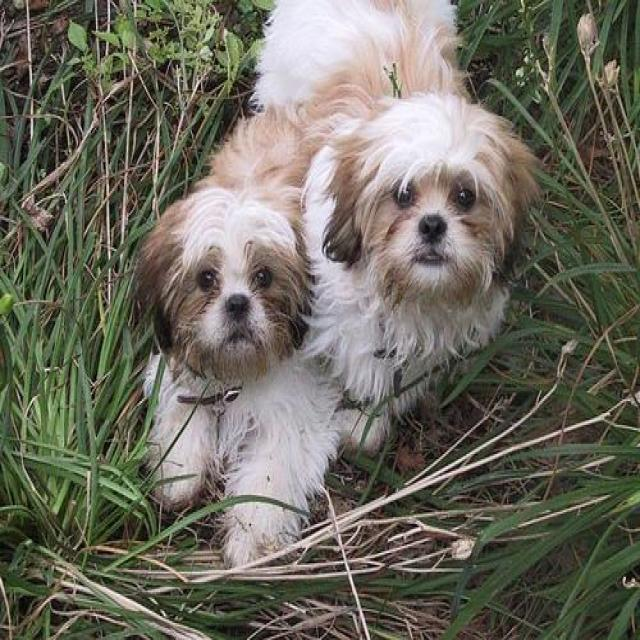shih_tzu: (128, 111, 343, 568), (305, 99, 530, 420)
